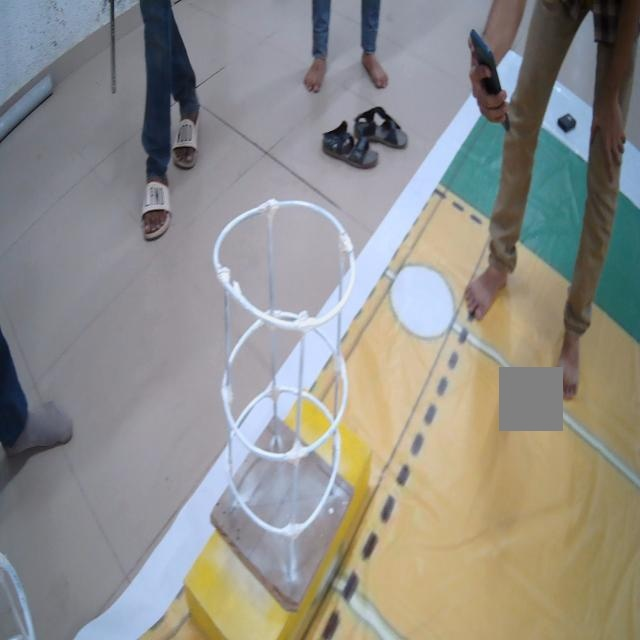silo: (202, 178, 369, 598)
